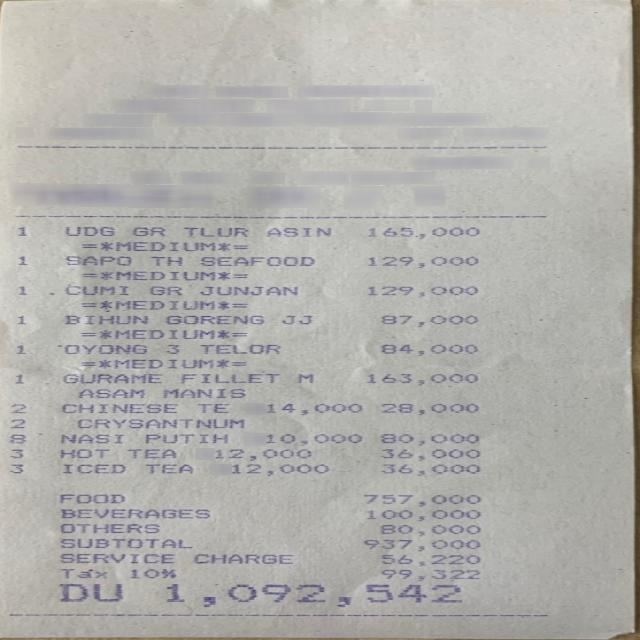text: (164, 583, 458, 607), (80, 300, 244, 311), (76, 418, 241, 428), (82, 241, 245, 251), (82, 270, 245, 280), (365, 372, 476, 386), (360, 538, 478, 551), (56, 508, 208, 518), (366, 225, 477, 238), (365, 255, 476, 268), (363, 494, 477, 506), (364, 508, 477, 520), (365, 285, 476, 297), (80, 330, 244, 338), (80, 359, 244, 367), (378, 568, 477, 581), (377, 524, 479, 536), (378, 433, 477, 445), (378, 463, 477, 475), (379, 403, 477, 415), (58, 402, 175, 412), (60, 538, 190, 547), (379, 343, 476, 355), (263, 432, 360, 444), (230, 463, 326, 475), (59, 552, 172, 562), (59, 584, 120, 602), (378, 448, 477, 459), (213, 448, 309, 459), (195, 285, 298, 295), (378, 554, 477, 564), (193, 553, 291, 563), (379, 315, 476, 325), (180, 372, 277, 382), (264, 403, 360, 413), (199, 256, 311, 264), (62, 373, 161, 382), (143, 433, 225, 443), (161, 387, 242, 397), (59, 524, 158, 532), (163, 315, 261, 323), (63, 314, 145, 323), (55, 344, 145, 352), (63, 285, 129, 295), (181, 226, 246, 236), (198, 344, 277, 352), (64, 255, 130, 264), (266, 227, 328, 236), (60, 433, 122, 442), (62, 463, 123, 472), (57, 448, 106, 459), (77, 389, 142, 397), (59, 494, 123, 502), (126, 448, 175, 458), (128, 568, 172, 578), (66, 227, 112, 236), (145, 463, 191, 472), (150, 284, 182, 296), (59, 569, 104, 577), (196, 402, 227, 412), (131, 227, 163, 236), (148, 256, 180, 264), (280, 316, 312, 324), (10, 432, 26, 443), (8, 418, 25, 428), (9, 462, 23, 473), (10, 344, 26, 353), (9, 402, 23, 412), (296, 373, 312, 381), (164, 344, 178, 353), (14, 285, 26, 295), (14, 314, 26, 324), (16, 226, 27, 236), (14, 255, 25, 265), (13, 374, 24, 384), (8, 449, 21, 457)
